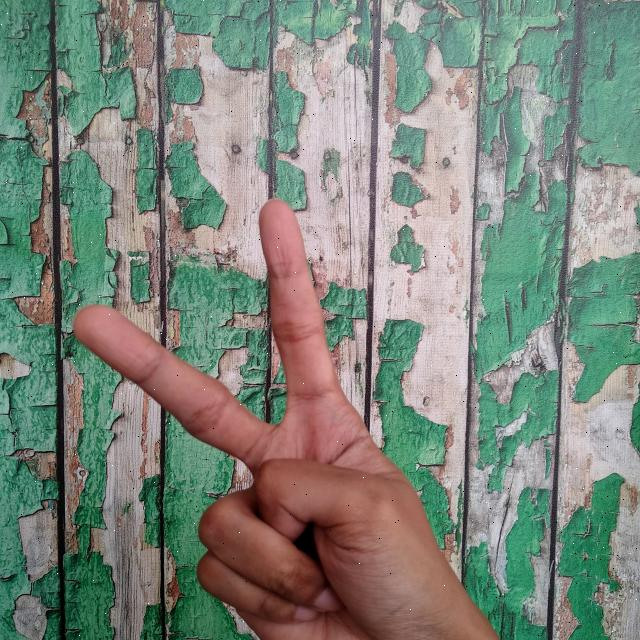V: (69, 192, 493, 640)
